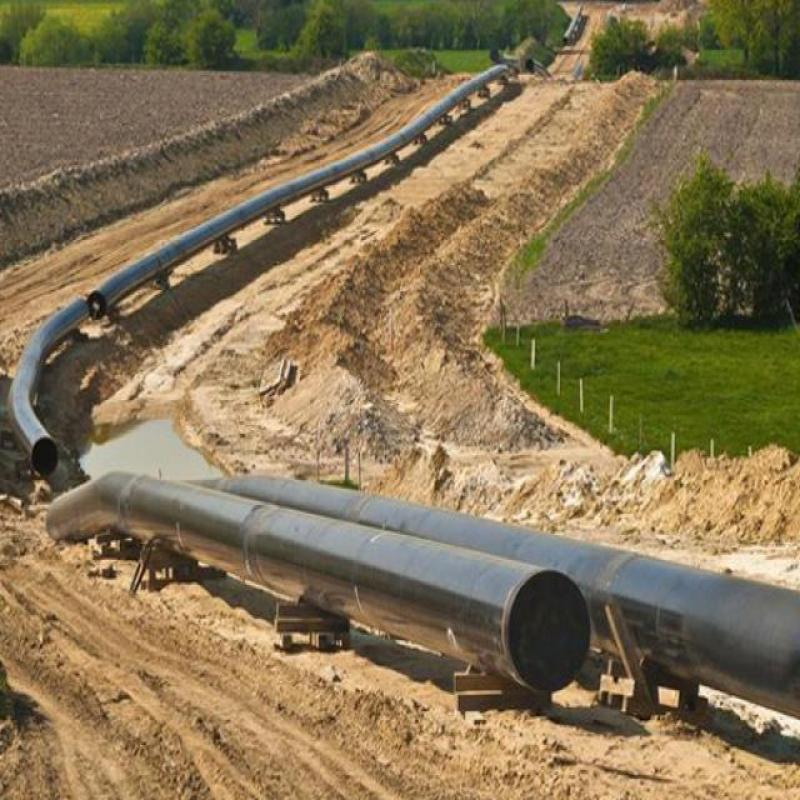Healthy: (106, 450, 750, 699)
